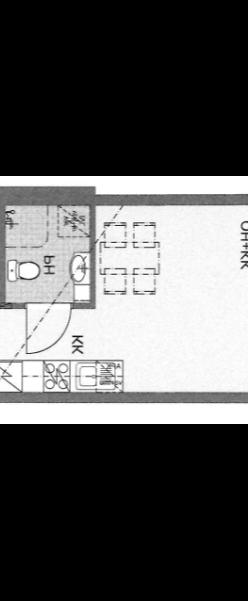bathroom: (3, 205, 92, 305)
door: (21, 298, 74, 356)
perimeter: (0, 194, 248, 405)
